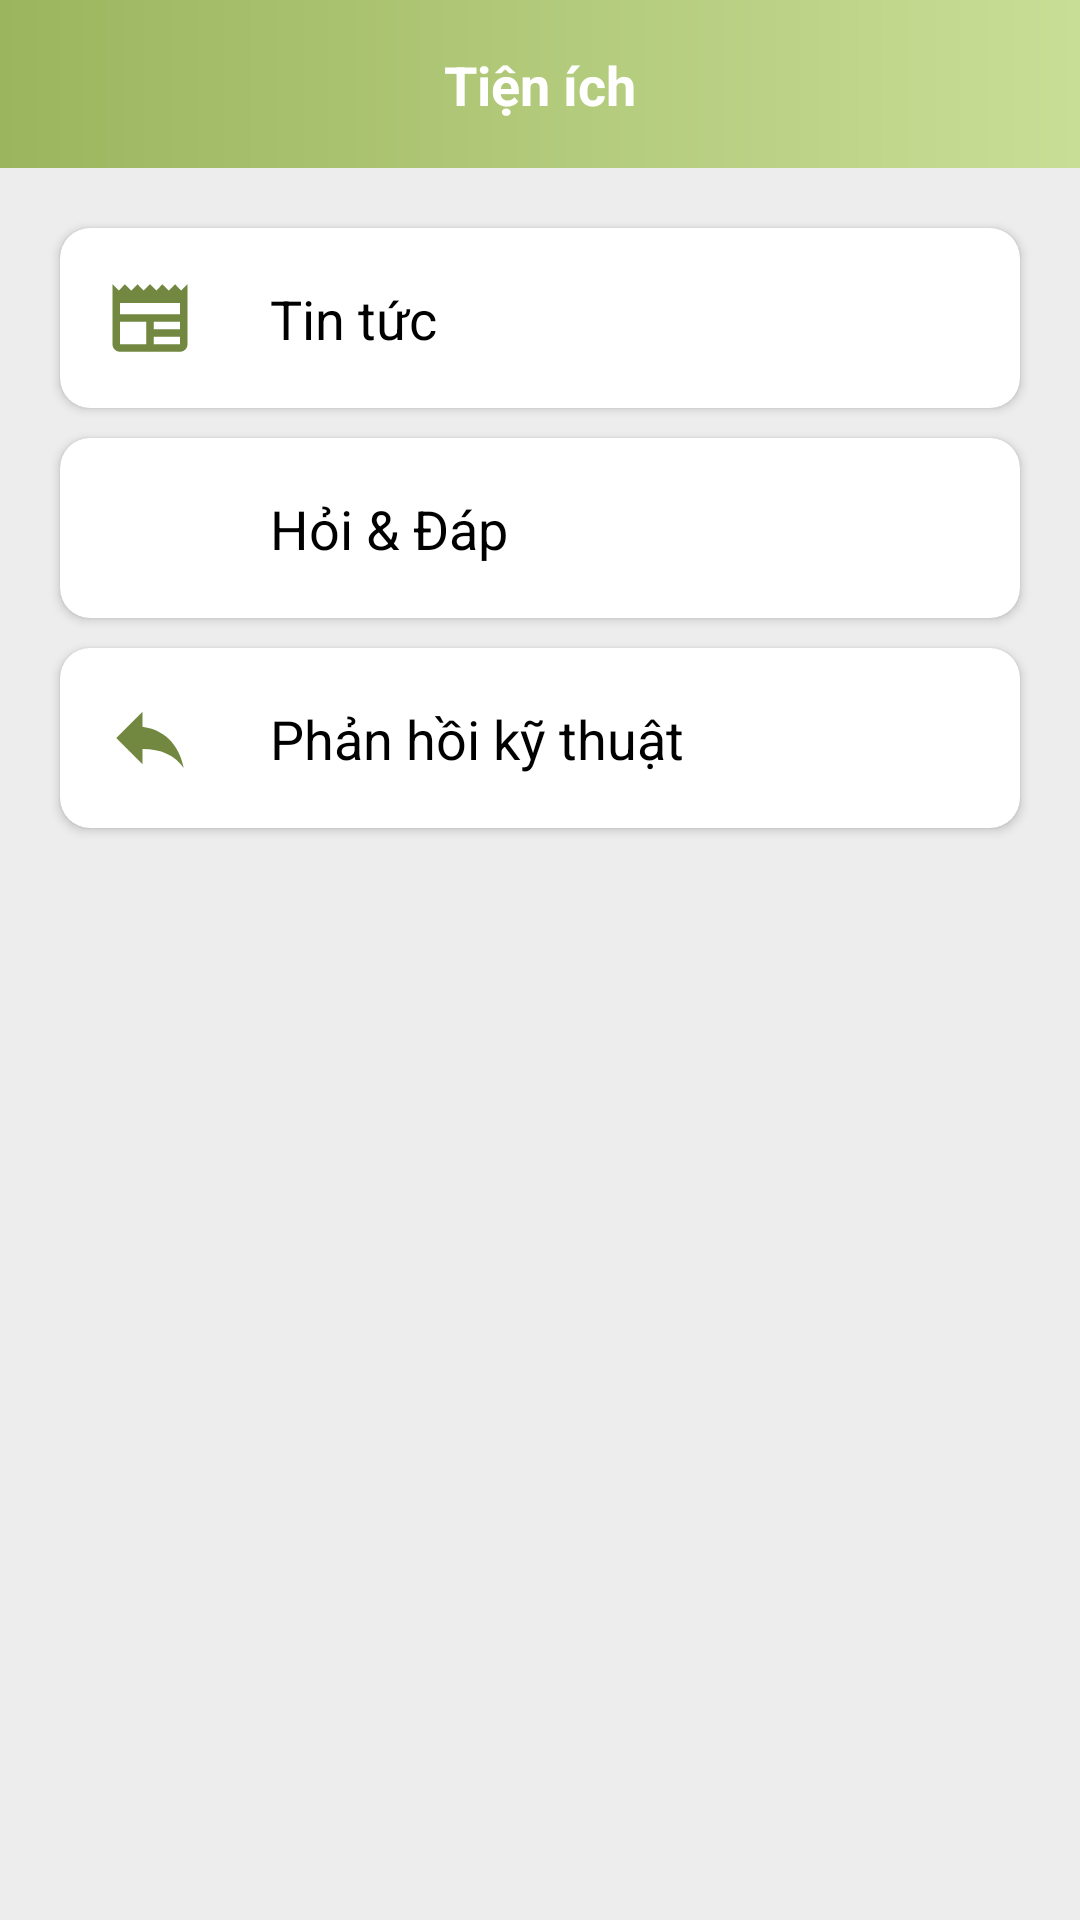

Where to tap for icons on this 1080w x 1920h app screen, as (x=x, y=y):
reply: (x=150, y=740)
